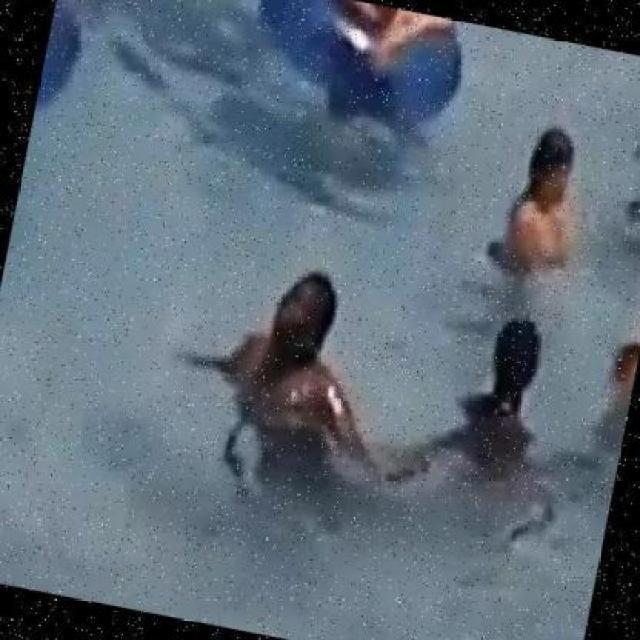drowning: (228, 278, 347, 477), (441, 322, 542, 467), (494, 128, 584, 267)
